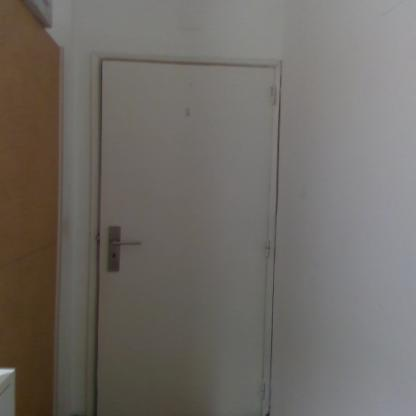door: (100, 60, 269, 415)
hinged: (262, 237, 272, 260), (272, 83, 279, 106), (259, 380, 266, 401)
lever: (110, 239, 144, 247)
